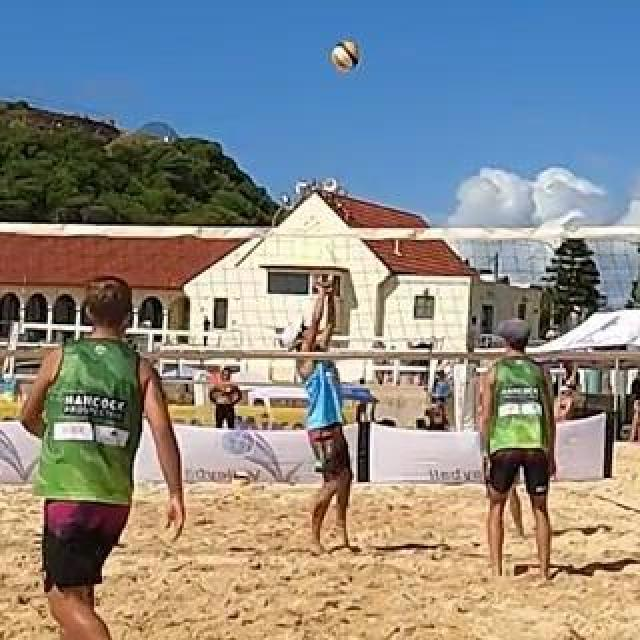volleyball: (332, 42, 360, 70)
